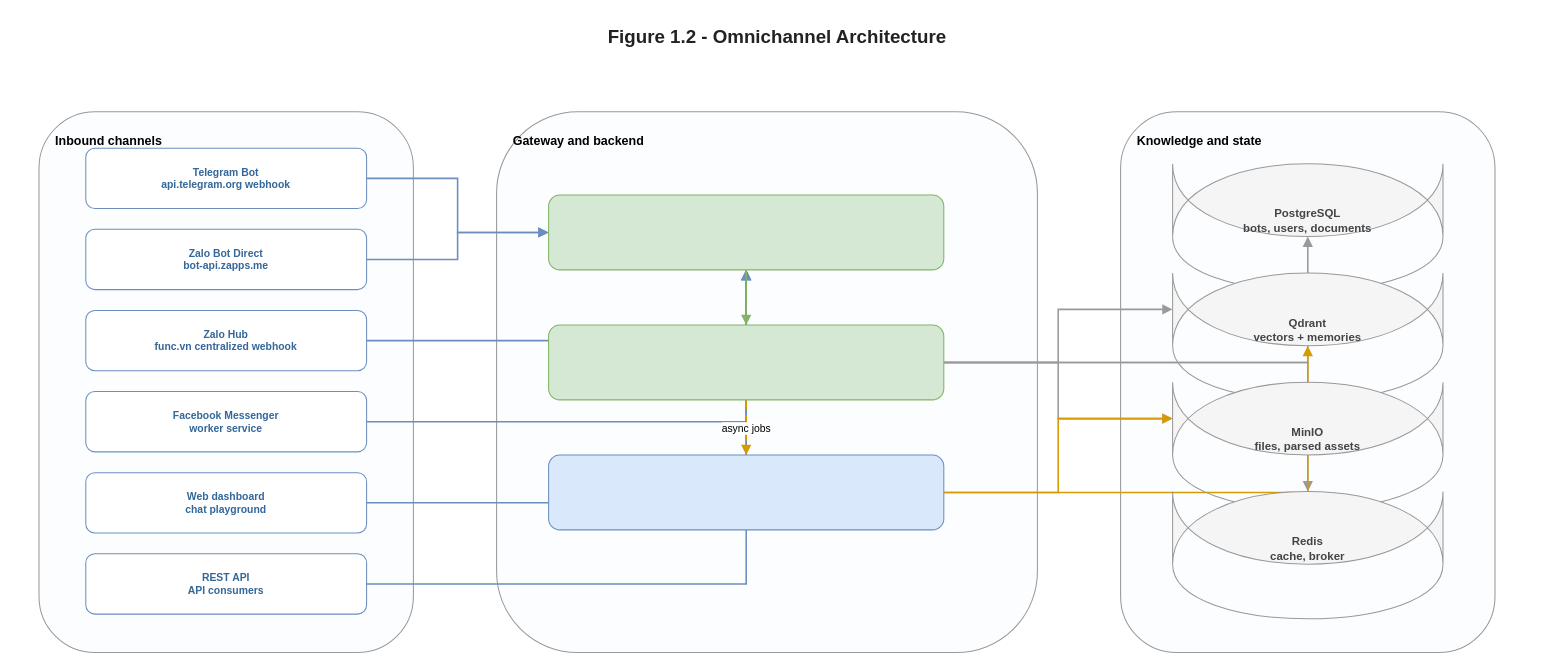
Image size: 1554x671. Some labels were removed from this diagram. Here are the shapes that lost their labels. From the top down, the centre of each, then its label:
At point 746,232: "Go API Gateway rate limit, cache, proxy".
At point 746,362: "FastAPI Backend chat, bots, channels".
At point 746,492: "Celery Workers indexing, hub dispatch".
